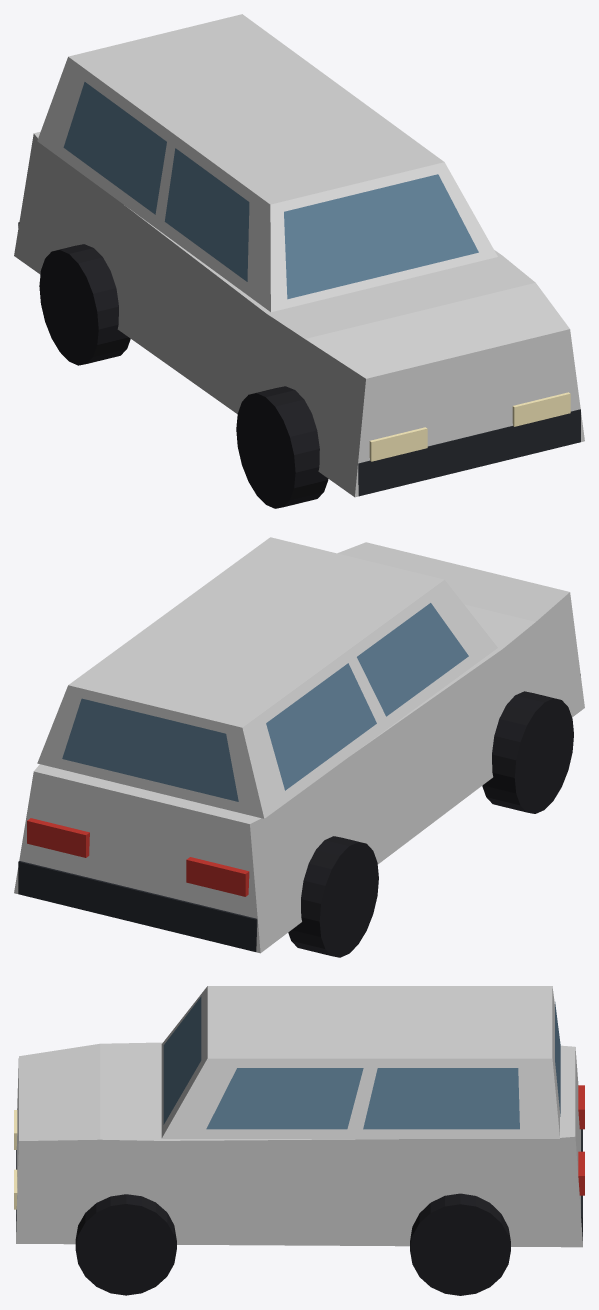
Rendered from hatchback.glb.
3 views of the same model, one above another, from view 1: azimuth 30°, elevation 25°; view 2: azimuth 150°, elevation 25°; view 3: azimuth 270°, elevation 25° (orthographic). The views are drawn at different scales.
Parts seen in each view (by area): view 1: body, cabin, glass_screen, wheel_1_L_tyre, wheel_0_L_tyre, bumper_nose, glass_side_0_L, glass_side_1_L, head_R, head_L; view 2: body, cabin, glass_back, wheel_1_L_tyre, bumper_tail, wheel_0_L_tyre, glass_side_0_L, glass_side_1_L, tail_L, tail_R; view 3: body, cabin, glass_side_0_R, glass_side_1_R, wheel_0_R_tyre, wheel_1_R_tyre, glass_screen, glass_back.
Boxes of the visible parts, box(x1,y1,x2,y2) form: body: box(14, 131, 584, 497); cabin: box(37, 14, 497, 312); glass_screen: box(284, 174, 478, 299); wheel_1_L_tyre: box(236, 386, 328, 508); wheel_0_L_tyre: box(39, 244, 130, 365); bumper_nose: box(358, 409, 580, 496); glass_side_0_L: box(63, 82, 166, 214); glass_side_1_L: box(164, 148, 249, 281); head_R: box(512, 392, 570, 426); head_L: box(369, 427, 427, 461); body: box(14, 542, 584, 953); cabin: box(37, 537, 497, 818); glass_back: box(62, 698, 238, 801); wheel_1_L_tyre: box(482, 691, 573, 813); bumper_tail: box(18, 861, 257, 951); wheel_0_L_tyre: box(288, 836, 378, 957); glass_side_0_L: box(266, 663, 376, 790); glass_side_1_L: box(357, 603, 468, 716); tail_L: box(186, 857, 249, 896); tail_R: box(27, 818, 89, 857); body: box(16, 1042, 582, 1247); cabin: box(161, 986, 559, 1138); glass_side_0_R: box(363, 1068, 519, 1129); glass_side_1_R: box(206, 1068, 363, 1129); wheel_0_R_tyre: box(410, 1193, 510, 1295); wheel_1_R_tyre: box(75, 1194, 176, 1295); glass_screen: box(163, 996, 201, 1124); glass_back: box(555, 1002, 560, 1116).
Size of the model in its own units: 1.8 by 1.55 by 3.72.
